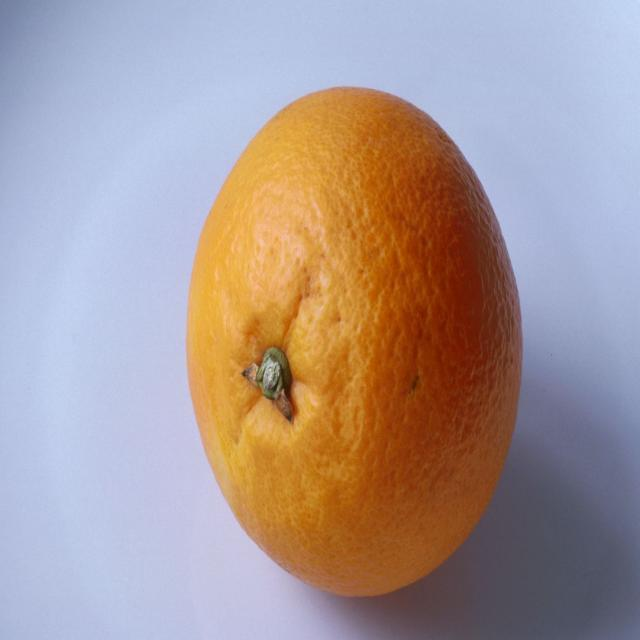Orange: (181, 84, 524, 600)
